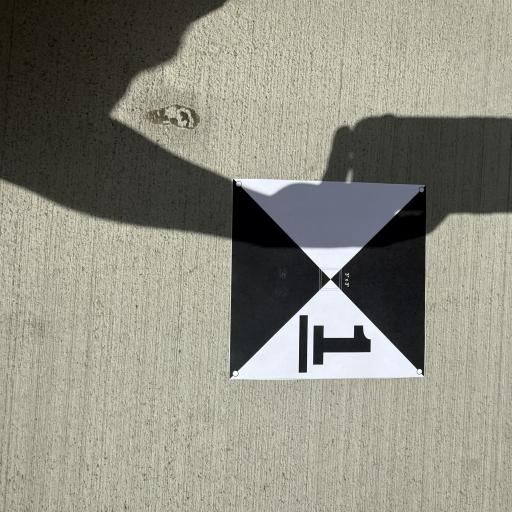target1: (220, 171, 432, 383)
